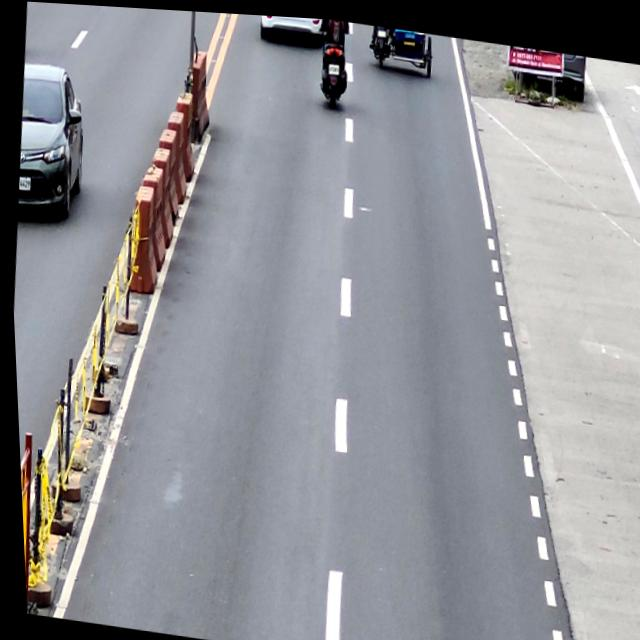License-Plate: (326, 60, 338, 71), (375, 25, 386, 32)
Motorcycle: (313, 15, 353, 108)
Tricycle: (367, 21, 435, 77)
